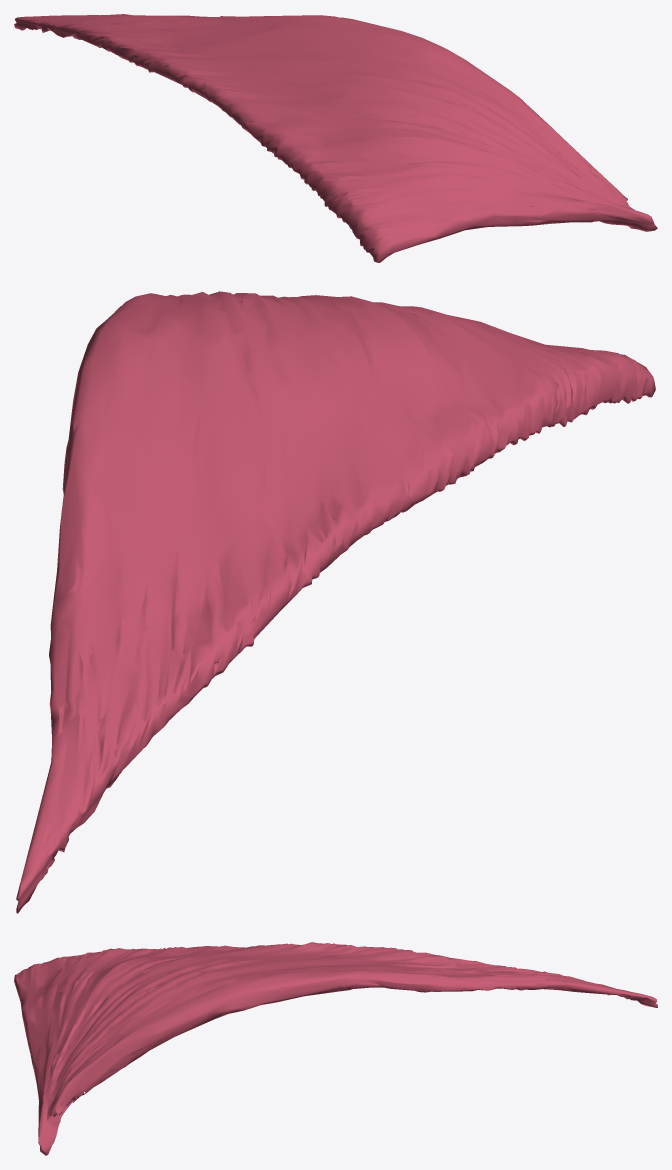
3 views of the same model, one above another, from view 1: azimuth 30°, elevation 25°; view 2: azimuth 150°, elevation 25°; view 3: azimuth 270°, elevation 25° (orthographic). The views are drawn at different scales.
Visible parts, largest first — view 1: 左侧斜方肌降部; view 2: 左侧斜方肌降部; view 3: 左侧斜方肌降部.
Part boxes in pixels (x1,y1,x2,y2): 左侧斜方肌降部: [14, 14, 657, 262]; 左侧斜方肌降部: [16, 291, 655, 913]; 左侧斜方肌降部: [14, 942, 657, 1155].
Size of the model in its own units: 0.2044 by 0.0899 by 0.4335.
